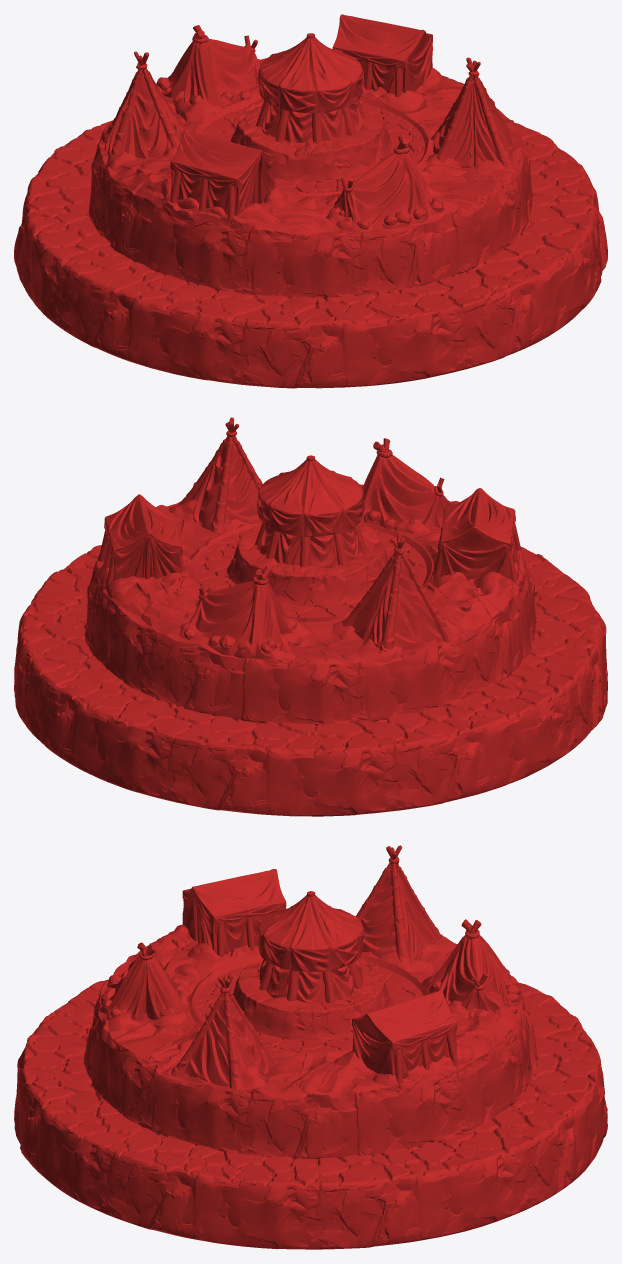
Rendered from Haven_Bottom_Red.obj.
The picture shows the model from 3 angles, top to bottom: view 1: azimuth 30°, elevation 25°; view 2: azimuth 150°, elevation 25°; view 3: azimuth 270°, elevation 25°; orthographic projection.
Parts seen in each view (by area): view 1: HavenBottom_Decimate_0; view 2: HavenBottom_Decimate_0; view 3: HavenBottom_Decimate_0.
Part boxes in pixels (box(x1,y1,x2,y2)): HavenBottom_Decimate_0: box(14, 14, 607, 388); HavenBottom_Decimate_0: box(14, 417, 607, 816); HavenBottom_Decimate_0: box(14, 845, 607, 1249).
Size of the model in its own units: 2.7 by 1.18 by 2.7.
